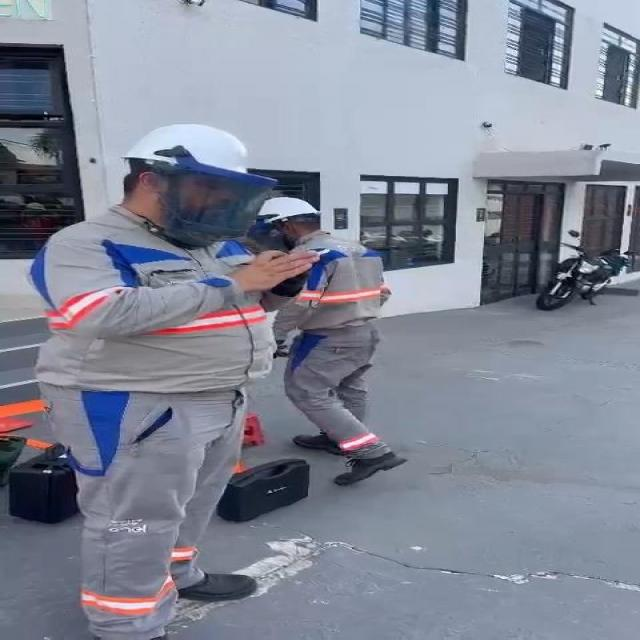Helmet: (113, 115, 271, 232), (260, 198, 333, 238)
No gloves: (230, 246, 316, 297)
